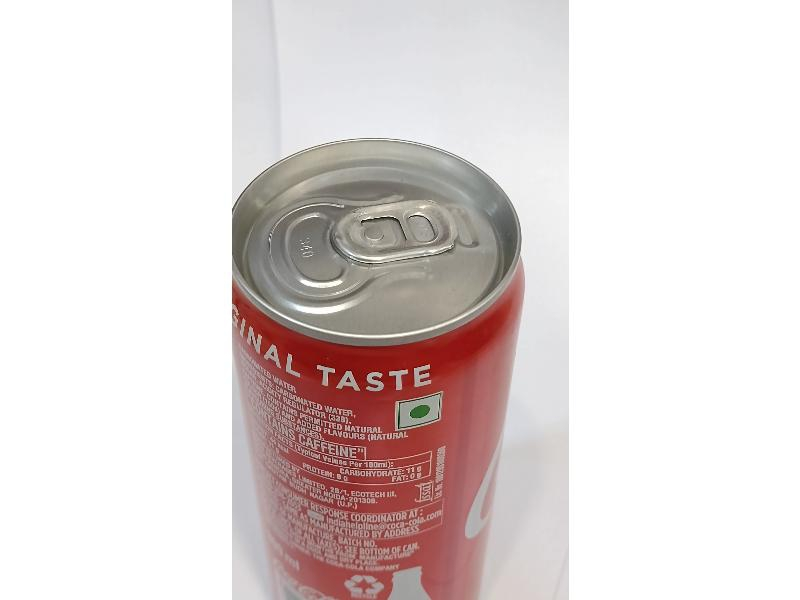can: (231, 136, 531, 595)
